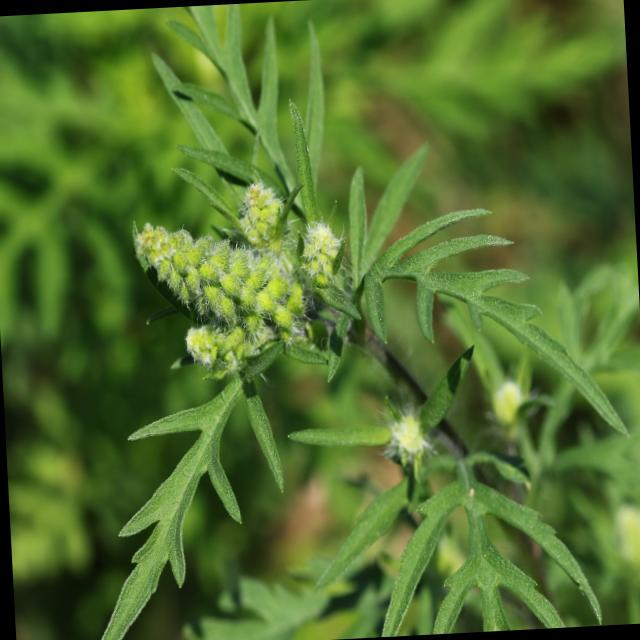ambrosia: (120, 148, 432, 406)
